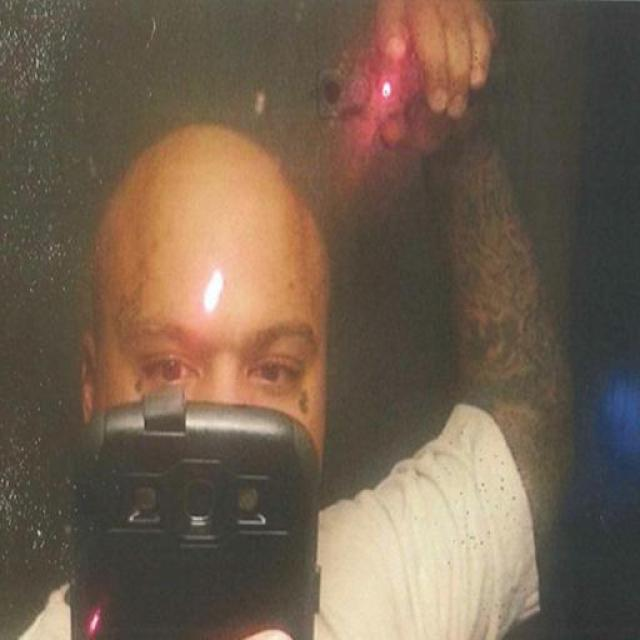pistol: (309, 38, 489, 123)
